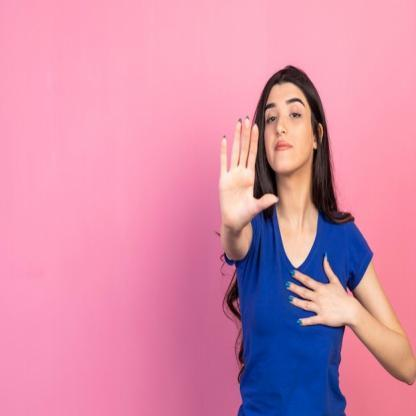stop: (218, 112, 280, 228)
